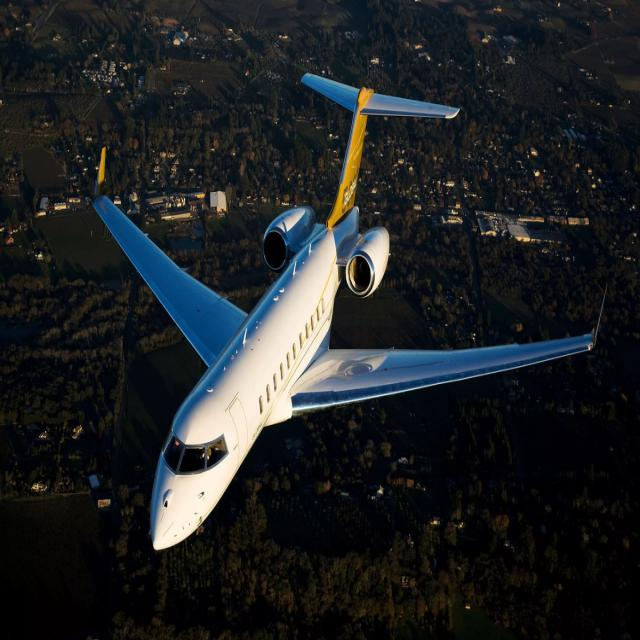plain: (88, 61, 611, 565)
